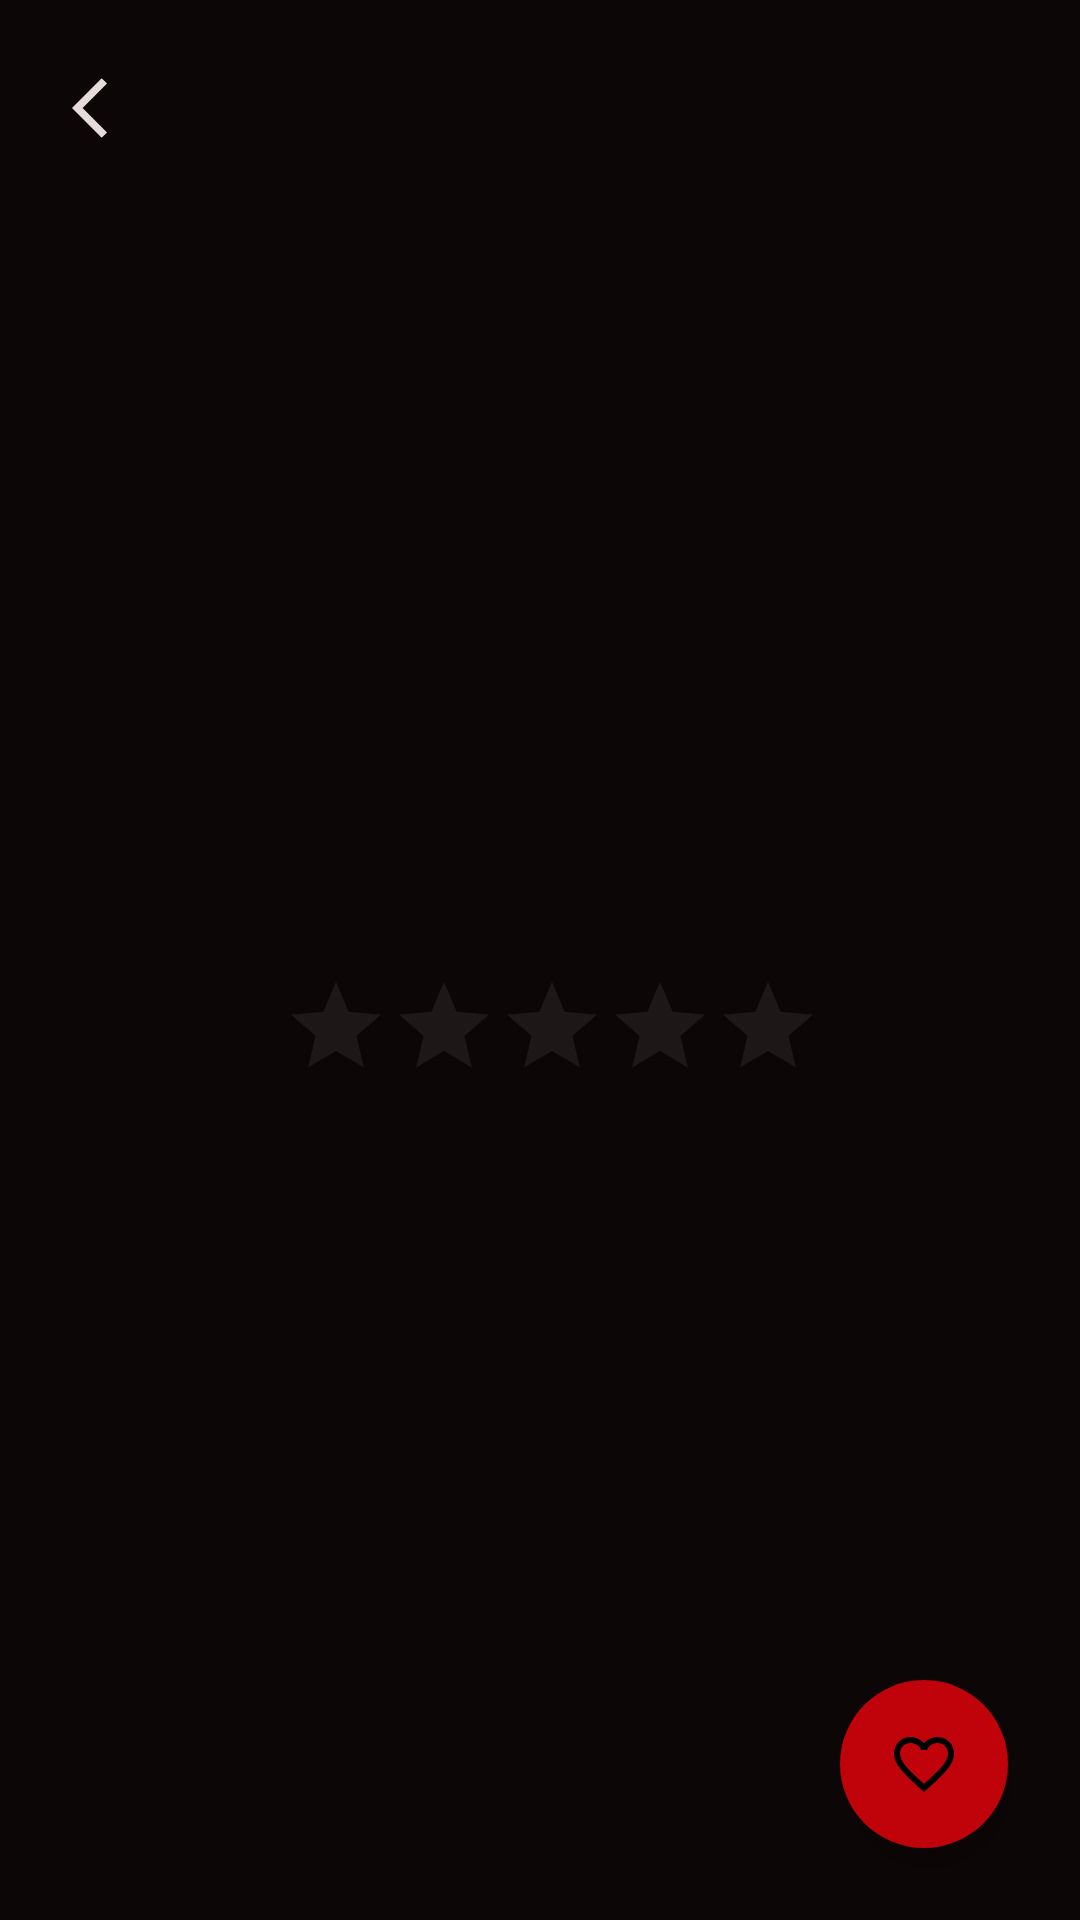

Where to tap for icons on this 1080px×1920px app screen, as point (x, y):
back: point (89, 108)
floating button favorite: point (924, 1764)
